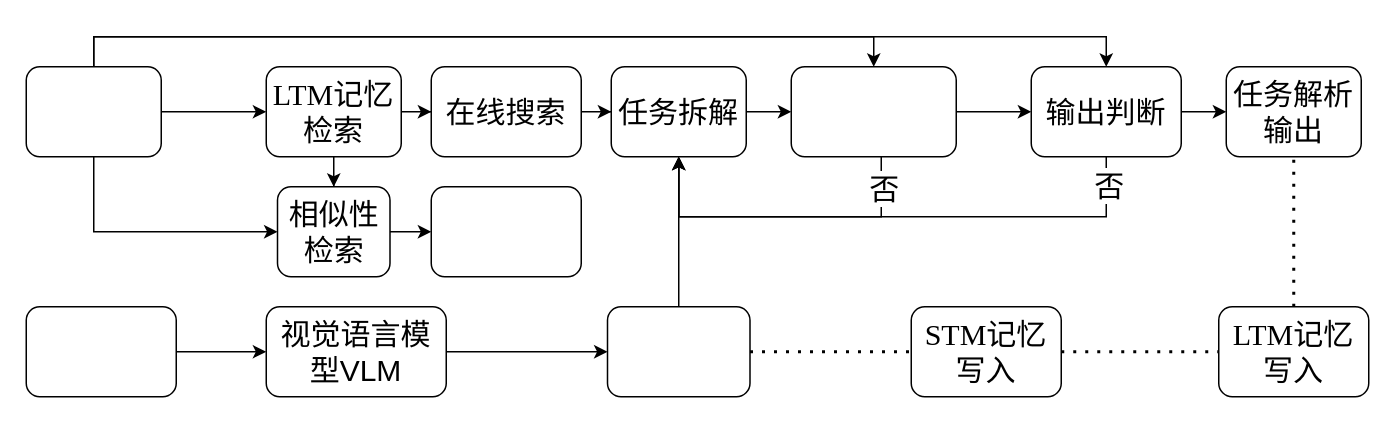
This 1395x423 diagram has some shape labels left out. Each missing label, with the box of its shape:
严谨性判断: (790, 65, 956, 157)
场景信息: (606, 305, 750, 397)
场景图片: (25, 305, 176, 397)
相似方案生成: (430, 185, 581, 277)
自然语言任务: (25, 65, 161, 157)
